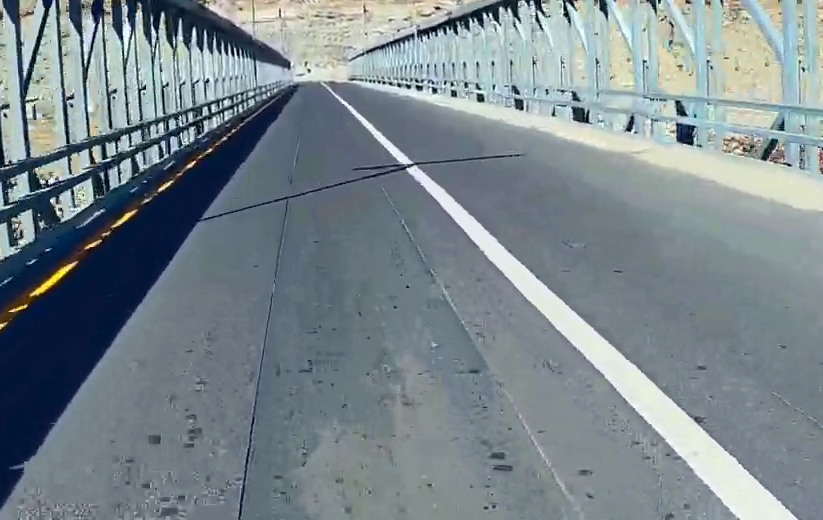left: (269, 118, 753, 471)
